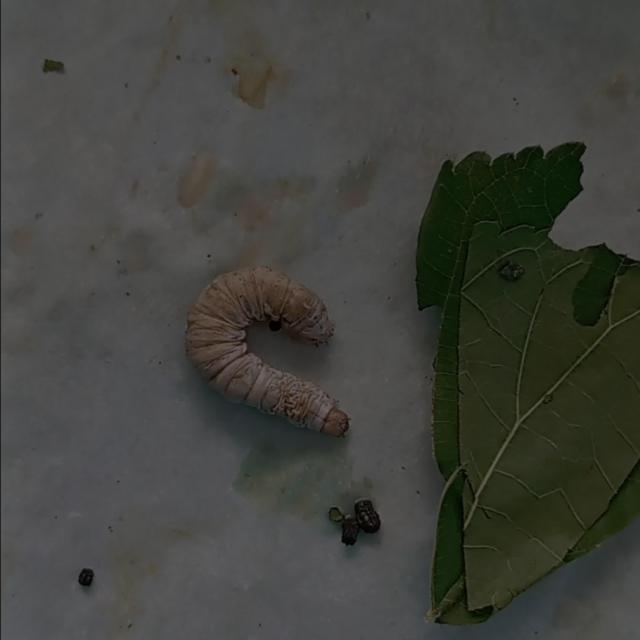Grasserie: (172, 255, 361, 444)
